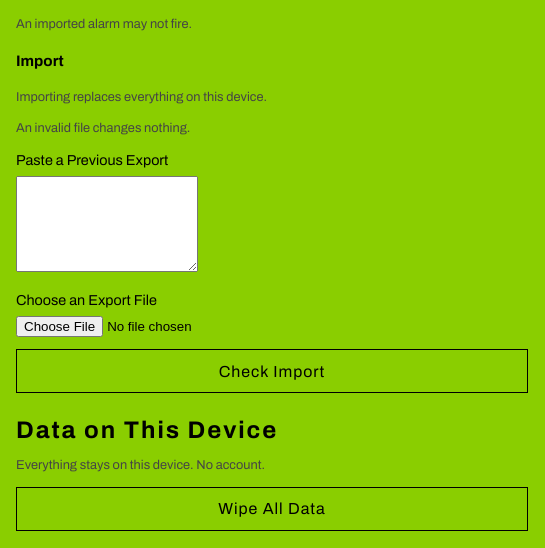
Scenario: SettingsView data section › holds the wipe until the backup is taken and the word matches
(page scrolled)
Click the button "Wipe All Data".
click(272, 509)  # box [16,487,528,531]
(page scrolled)
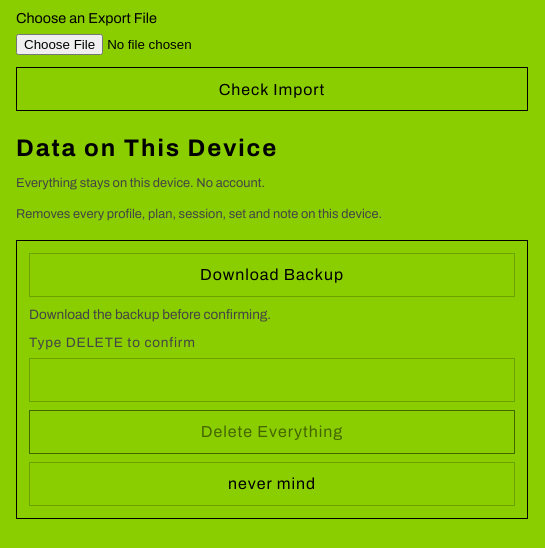
Type "DELETE" into the field labelled "Type DELETE to confirm".
click(272, 380); type("DELETE")  # box [29,358,515,402]
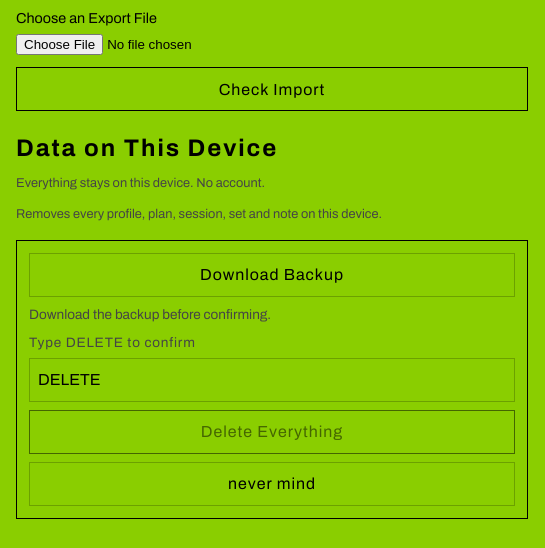
Now the button "Delete Everything" is disabled, box [29,410,515,454]
Clear the field labelled "Type DELETE to confirm" at (272, 380), box [29,358,515,402]
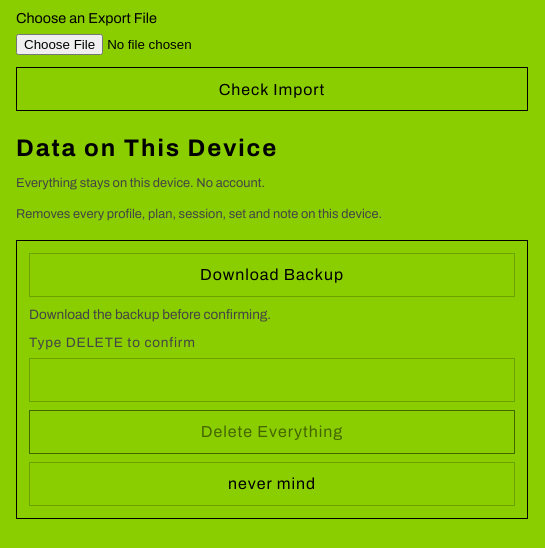
Click the button "Download Backup".
click(272, 275)  # box [29,253,515,297]
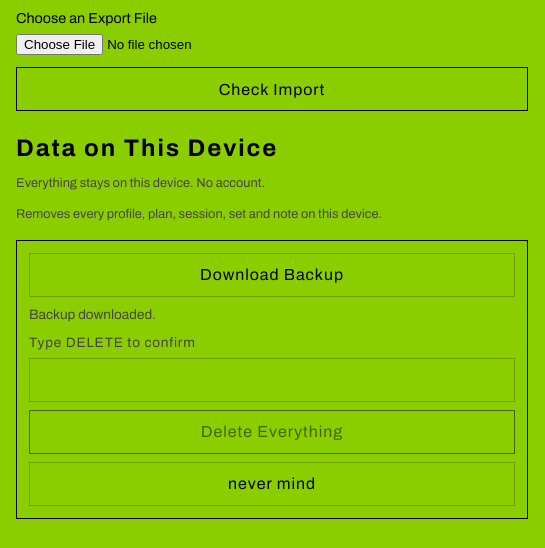
Now the button "Delete Everything" is disabled, box [29,410,515,454]
Type "DELETE" into the field labelled "Type DELETE to confirm".
click(272, 380); type("DELETE")  # box [29,358,515,402]
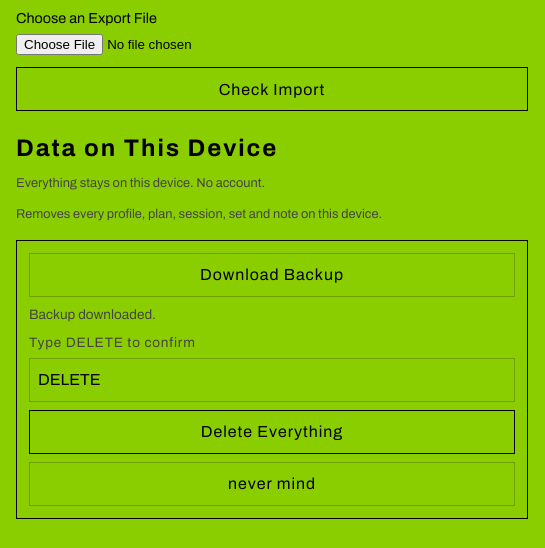
Now the button "Delete Everything" is enabled, box [29,410,515,454]
